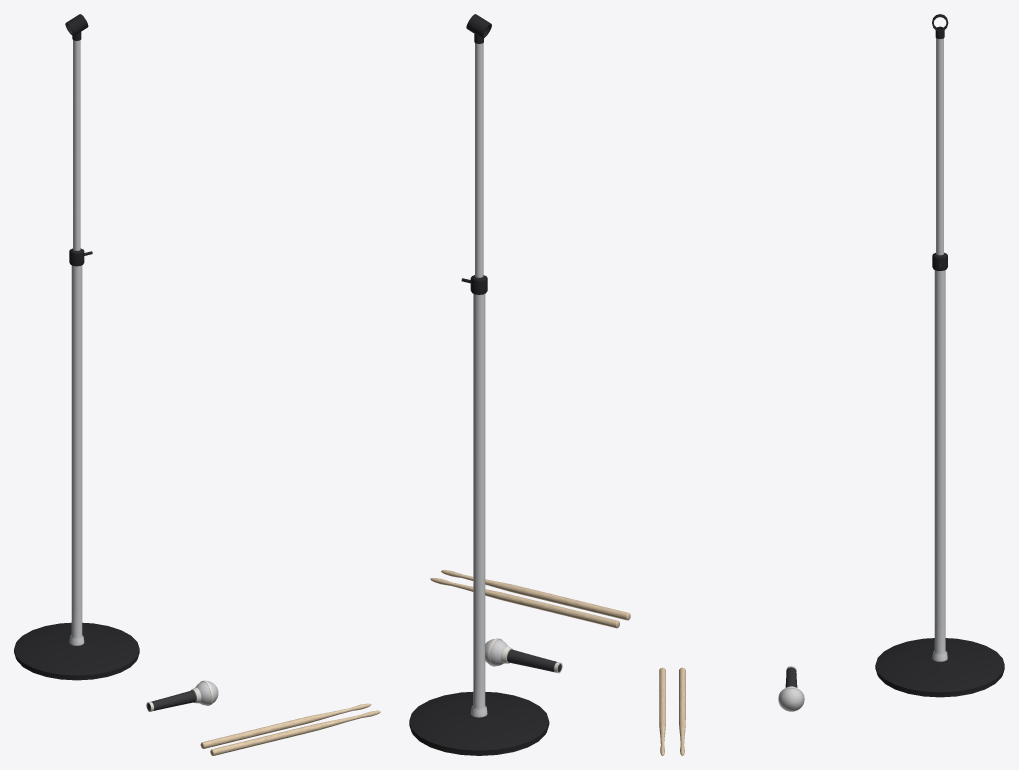
The model's file is ska_props.glb.
3 views of the same model, side by side, from view 1: azimuth 30°, elevation 25°; view 2: azimuth 150°, elevation 25°; view 3: azimuth 270°, elevation 25° (orthographic). The views are drawn at different scales.
Visible parts, largest first — view 1: pr_stand, pr_stick_r, pr_stick_l, pr_mic; view 2: pr_stand, pr_stick_l, pr_stick_r, pr_mic; view 3: pr_stand, pr_mic.
Boxes of the visible parts, bbox=[...] form: pr_stand: bbox=[14, 14, 139, 680]; pr_stick_r: bbox=[200, 703, 371, 748]; pr_stick_l: bbox=[210, 710, 380, 755]; pr_mic: bbox=[146, 680, 218, 711]; pr_stand: bbox=[409, 14, 549, 755]; pr_stick_l: bbox=[441, 570, 630, 620]; pr_stick_r: bbox=[430, 578, 619, 628]; pr_mic: bbox=[485, 638, 562, 673]; pr_stand: bbox=[875, 14, 1004, 697]; pr_mic: bbox=[778, 665, 804, 711].
Bounding box in the file's own units: 0.5366 × 1.49 × 0.6975.
1 material, 1 textured.
